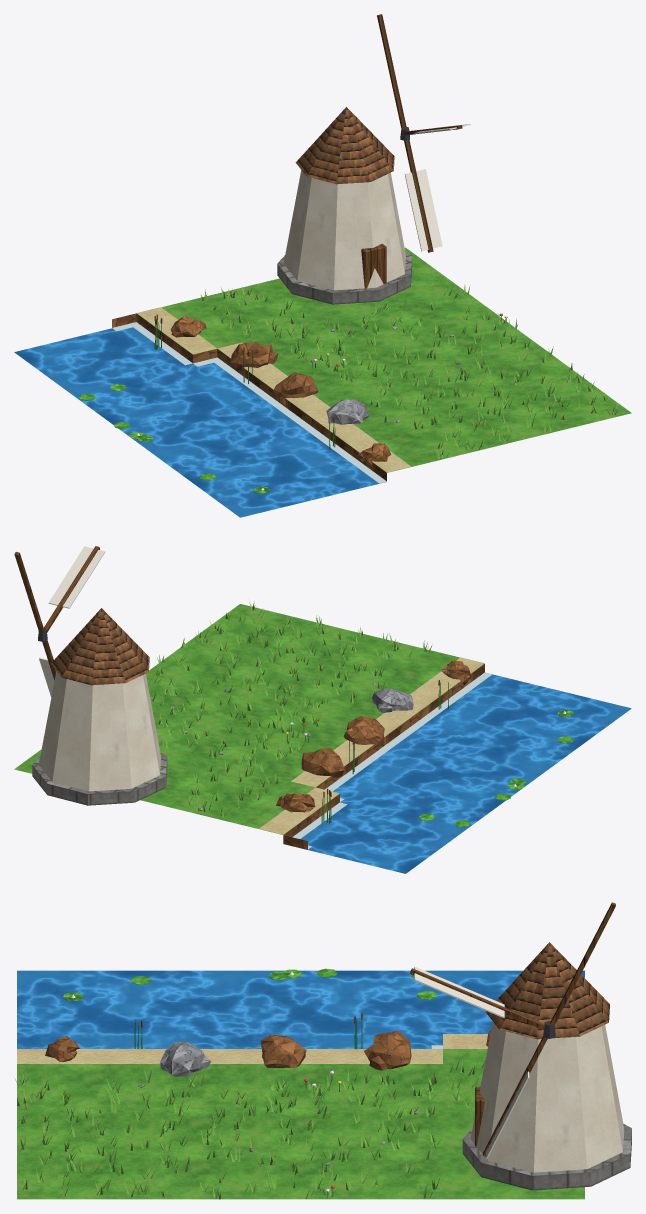
Rendered from chunk_0_7.glb.
The picture shows the model from 3 angles, top to bottom: view 1: azimuth 30°, elevation 25°; view 2: azimuth 150°, elevation 25°; view 3: azimuth 270°, elevation 25°; orthographic projection. The views are drawn at different scales.
Parts seen in each view (by area): view 1: chunk_0_7; view 2: chunk_0_7; view 3: chunk_0_7.
Part boxes in pixels (<box>): chunk_0_7: <box>14,14,631,517</box>; chunk_0_7: <box>14,546,631,873</box>; chunk_0_7: <box>15,902,631,1199</box>.
Bounding box in the file's own units: 16.19 × 9.4 × 17.41.
Materials: 23 (15 with a texture image).
